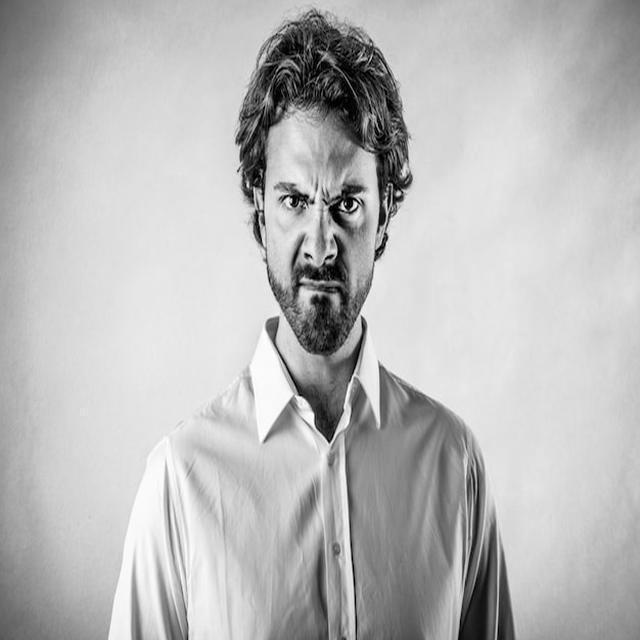Angry: (263, 113, 380, 354)
